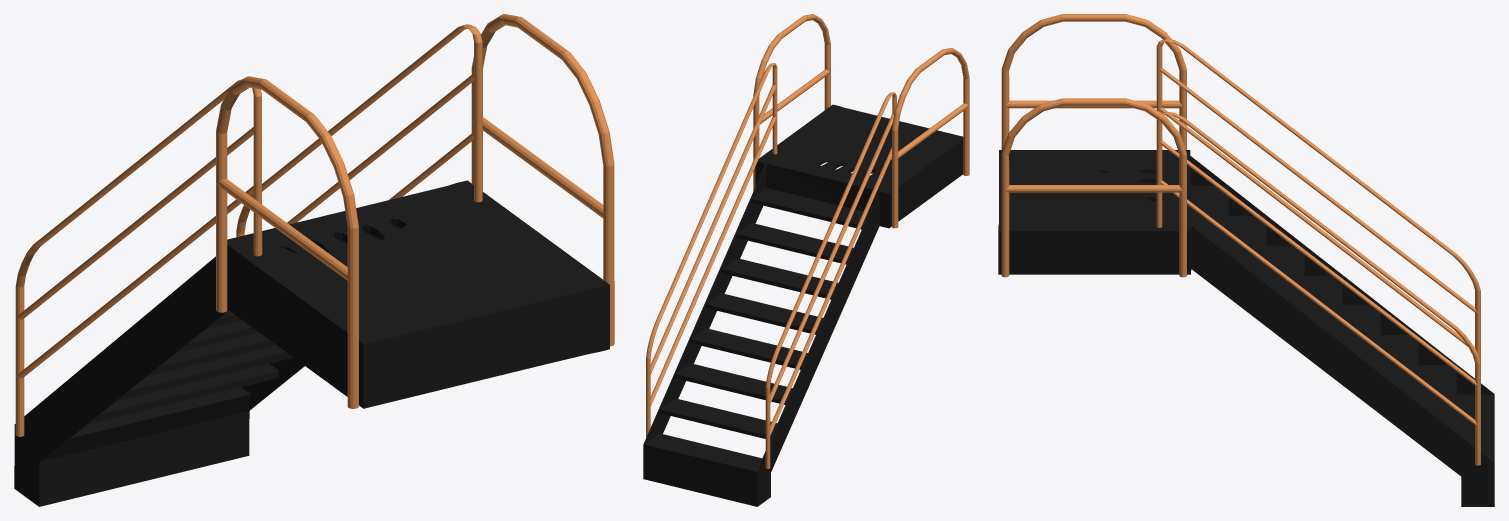
Rendered from catStairs.fbx.
The picture shows the model from 3 angles, left to right: view 1: azimuth 30°, elevation 25°; view 2: azimuth 150°, elevation 25°; view 3: azimuth 270°, elevation 25°; orthographic projection. The views are drawn at different scales.
Visible parts, largest first — view 1: catStair, catTopStairRail.001, catStairRail.001, catTopStairRail, catStairRail; view 2: catStair, catStairRail, catStairRail.001, catTopStairRail.001, catTopStairRail; view 3: catStair, catStairRail, catStairRail.001, catTopStairRail, catTopStairRail.001.
Part boxes in pixels (bbox=[...]): catStair: bbox=[14, 180, 609, 506]; catTopStairRail.001: bbox=[216, 76, 358, 408]; catStairRail.001: bbox=[15, 79, 262, 436]; catTopStairRail: bbox=[471, 14, 614, 346]; catStairRail: bbox=[236, 24, 482, 237]; catStair: bbox=[643, 104, 963, 506]; catStairRail: bbox=[646, 63, 777, 437]; catStairRail.001: bbox=[765, 92, 896, 468]; catTopStairRail.001: bbox=[892, 48, 969, 228]; catTopStairRail: bbox=[753, 14, 830, 190]; catStair: bbox=[998, 150, 1494, 506]; catStairRail: bbox=[1156, 111, 1480, 465]; catStairRail.001: bbox=[1156, 39, 1480, 362]; catTopStairRail: bbox=[1001, 98, 1186, 277]; catTopStairRail.001: bbox=[1001, 14, 1186, 149].
Size of the model in its own units: 216 by 518 by 479.
